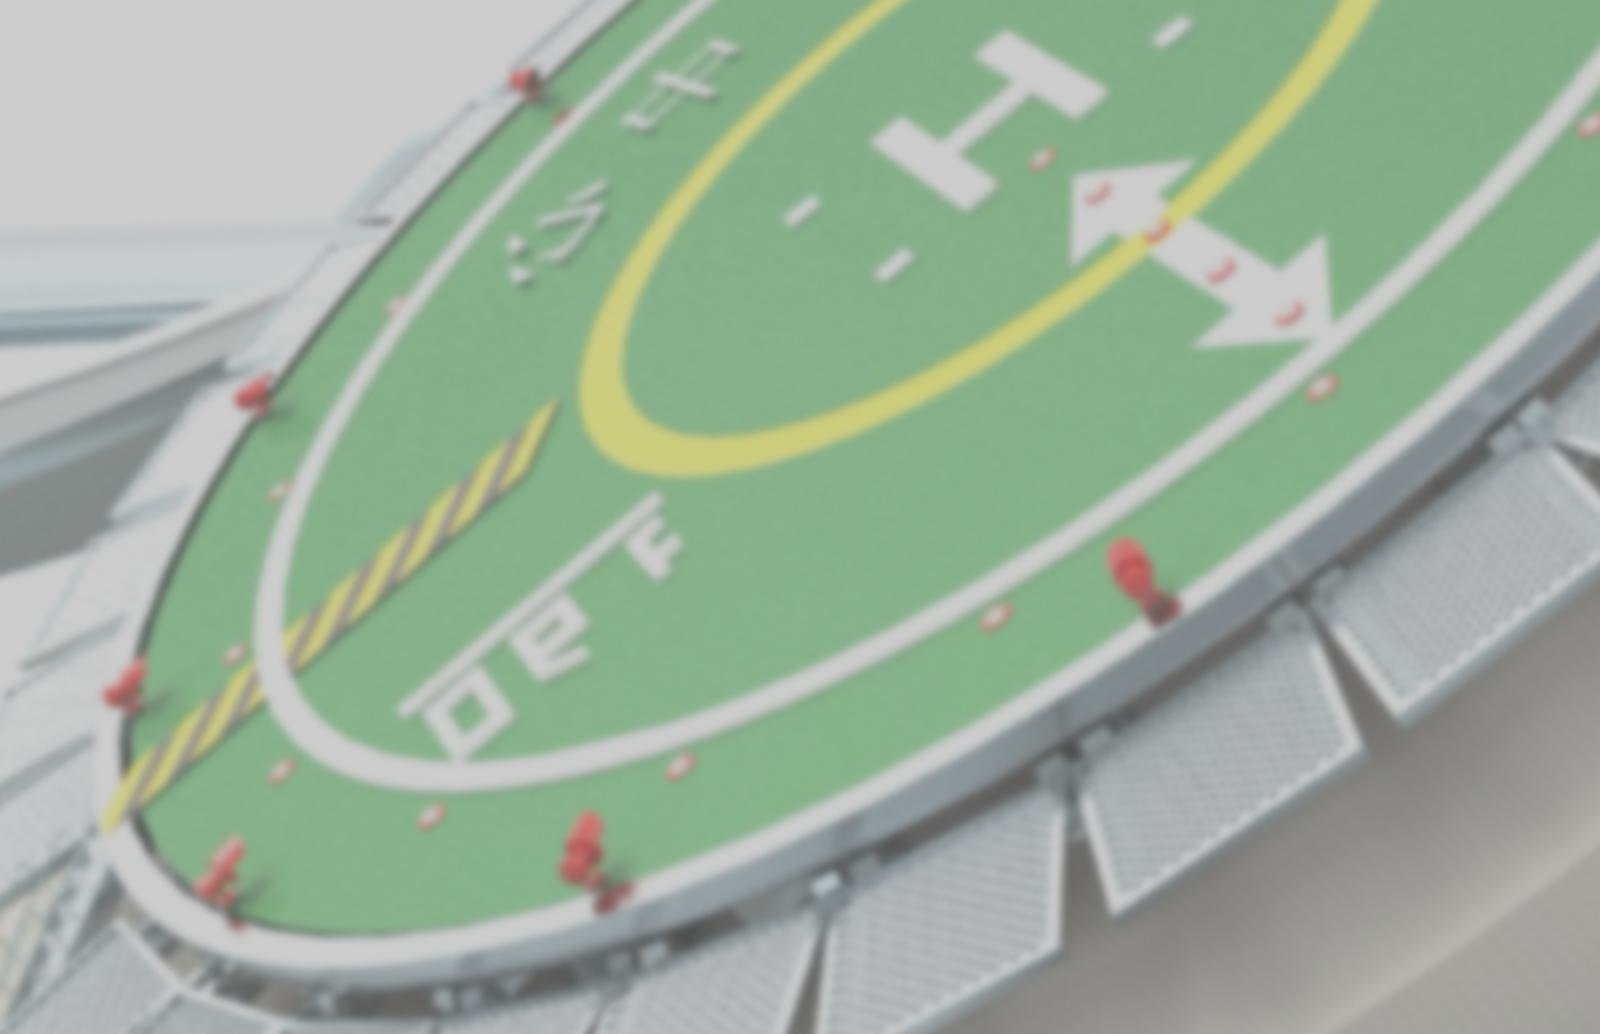Apron: (561, 1, 1404, 483)
